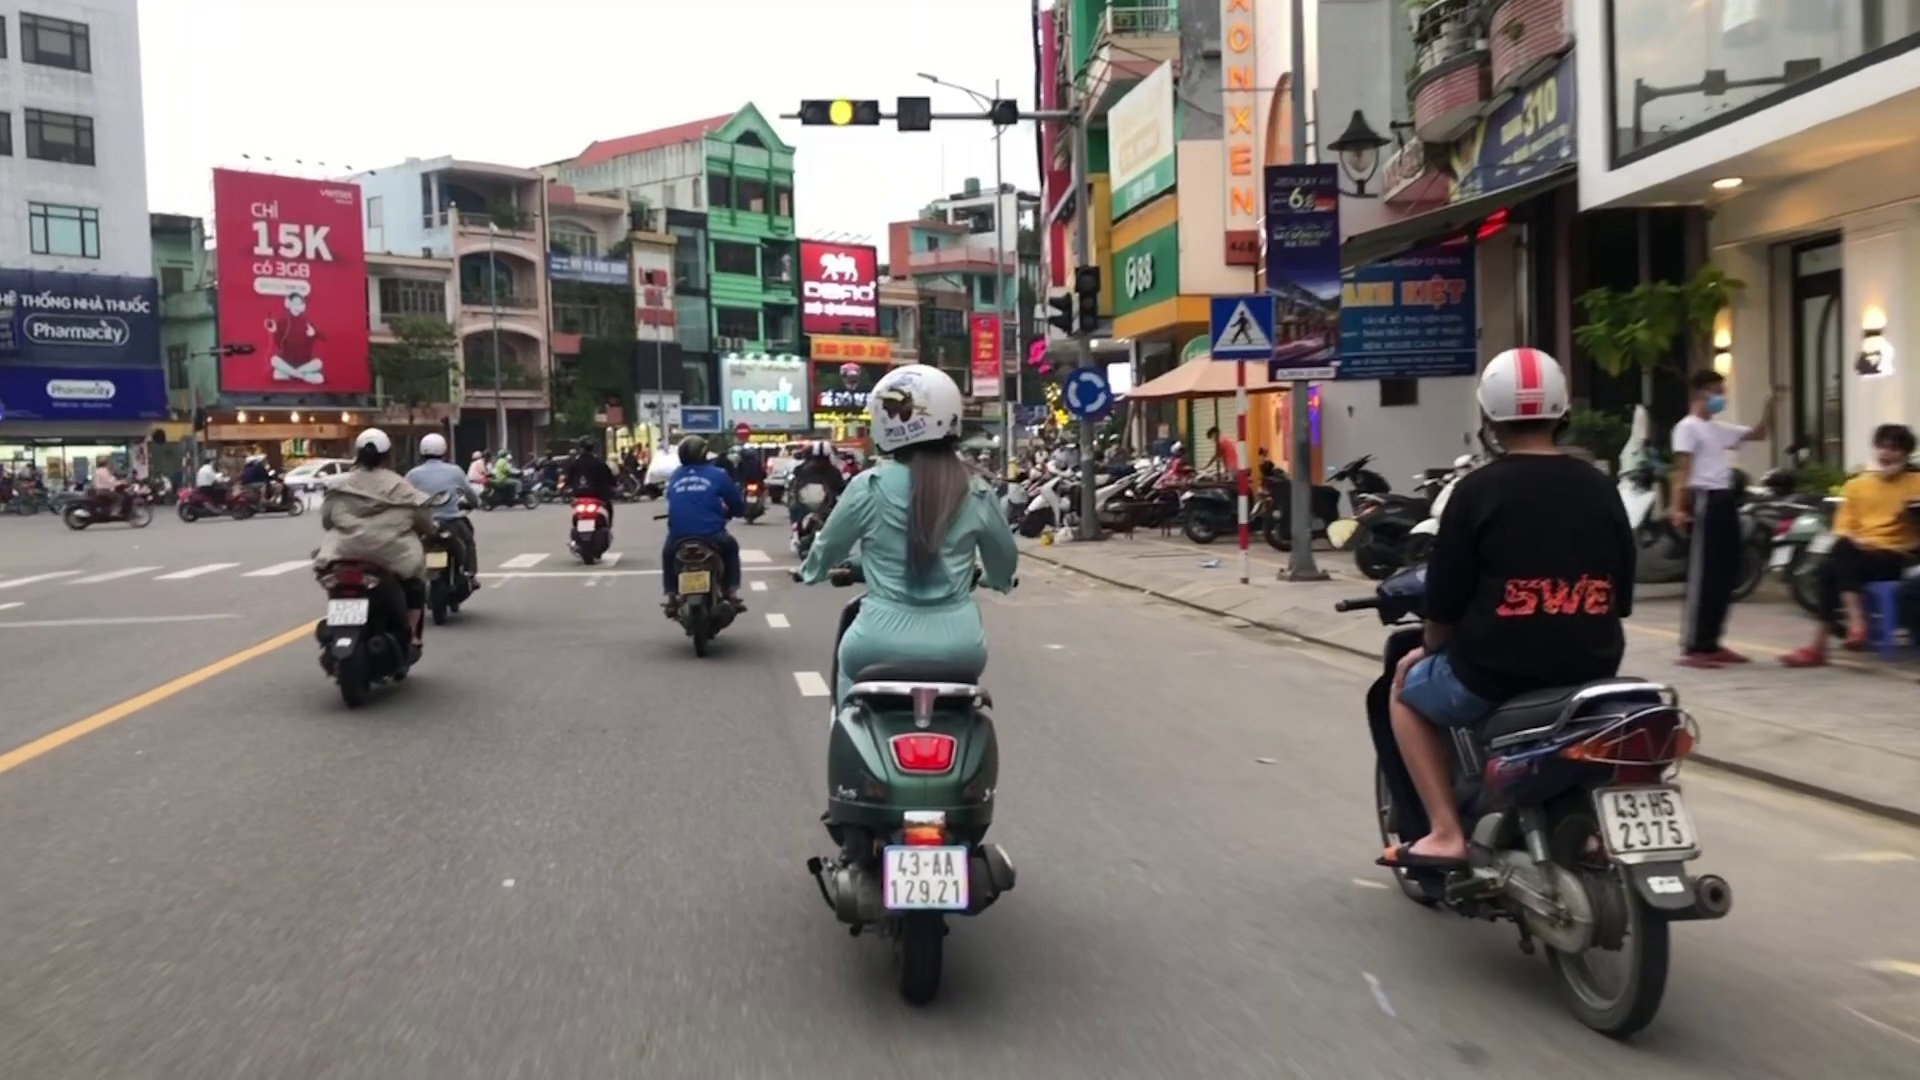Bien khac: (1060, 363, 1106, 415)
Cam di nguoc chieu: (731, 421, 749, 440)
Nguoi di bo: (1209, 294, 1276, 360)
